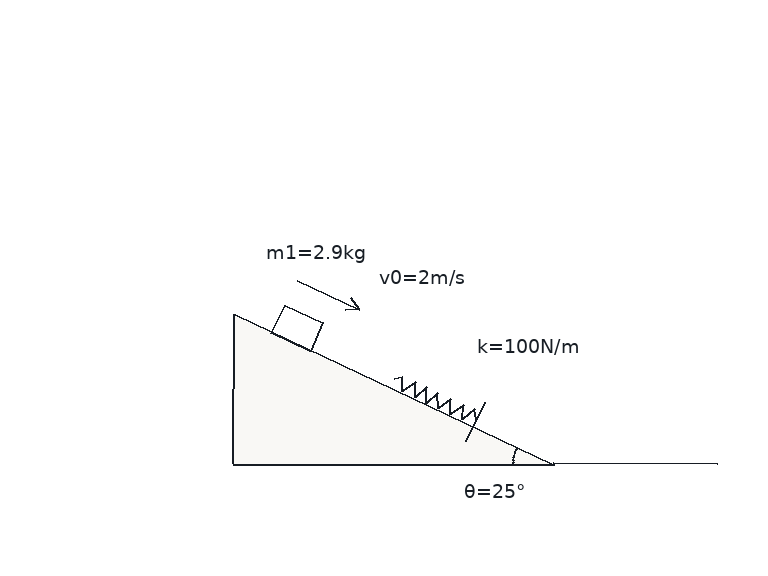block: (270, 303, 324, 352)
ramp: (231, 313, 555, 466)
spring: (392, 374, 479, 421)
